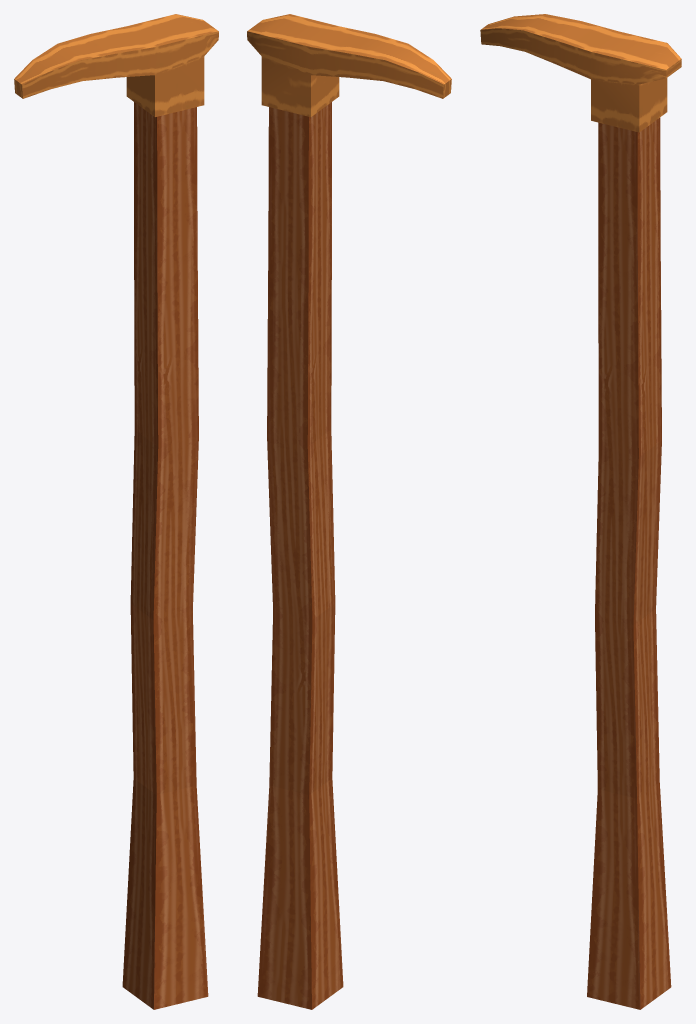
Rendered from hoe.fbx.
3 renders of one model, left to right at view 1: azimuth 30°, elevation 25°; view 2: azimuth 150°, elevation 25°; view 3: azimuth 330°, elevation 25°, orthographic.
Parts seen in each view (by area): view 1: Cube.008; view 2: Cube.008; view 3: Cube.008.
Part boxes in pixels (x1,y1,x2,y2): Cube.008: (14, 14, 218, 1009); Cube.008: (247, 14, 451, 1009); Cube.008: (480, 14, 681, 1009).
Size of the model in its own units: 0.2273 by 1.08 by 0.0641.
